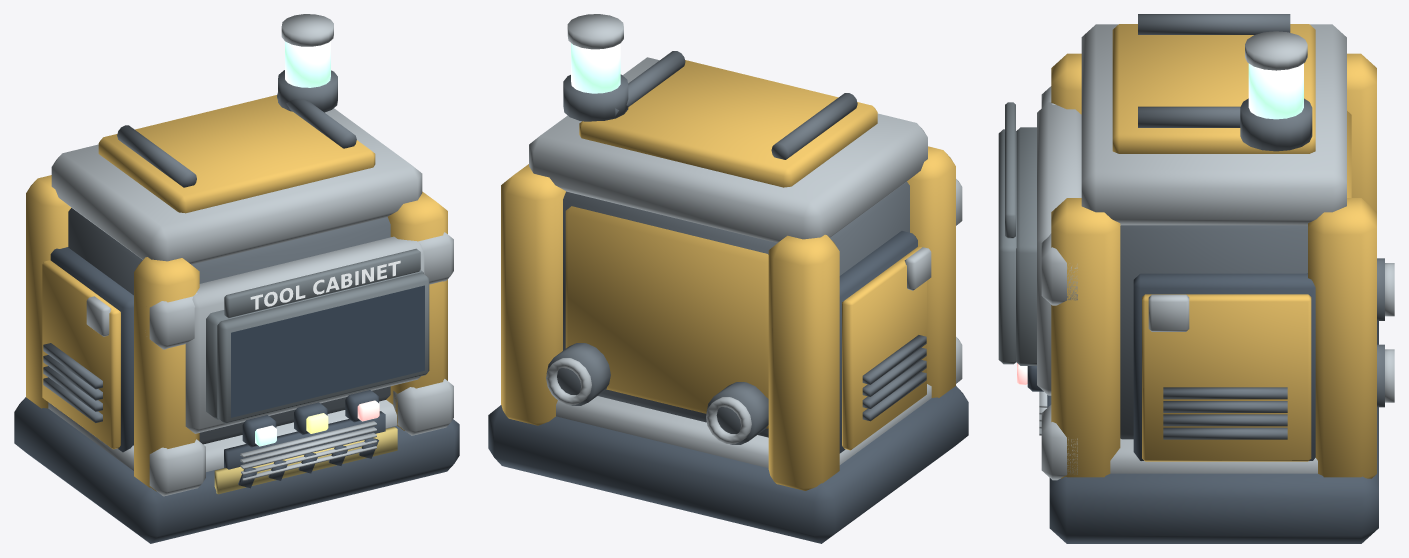
The model's file is tool_cabinet_standard.glb.
3 renders of one model, left to right at view 1: azimuth 30°, elevation 25°; view 2: azimuth 150°, elevation 25°; view 3: azimuth 270°, elevation 25°, orthographic. The views are drawn at different scales.
Visible parts, largest first — view 1: TopCap_steel_legacy_10, Base_black_legacy_0, Frame_orange_legacy_4, RoofPanel_orange_legacy_11, LiveViewSurface_glass, CornerGuard_steel_legacy_5, Housing_dark_legacy_2, ServiceDoor_orange_legacy_7, DisplayFrame_steel_legacy_13, LiveViewSurfaceFrame_frame, TypePlate_frame, SidePanel_black_legacy_6 (+13 smaller); view 2: Frame_orange_legacy_4, Armor_orange_legacy_3, Base_black_legacy_0, TopCap_steel_legacy_10, RoofPanel_orange_legacy_11, ServiceDoor_orange_legacy_7, Housing_dark_legacy_2, Skirt_steel_legacy_1, RearPort_dark_legacy_29, LiftRail_dark_legacy_12, SideVents_dark_legacy_8, SidePanel_black_legacy_6 (+6 smaller); view 3: Frame_orange_legacy_4, TopCap_steel_legacy_10, Base_black_legacy_0, ServiceDoor_orange_legacy_7, RoofPanel_orange_legacy_11, Housing_dark_legacy_2, DisplayFrame_steel_legacy_13, SideVents_dark_legacy_8, SidePanel_black_legacy_6, LiftRail_dark_legacy_12, ScreenMount_frame, CornerGuard_steel_legacy_5 (+9 smaller).
Part boxes in pixels (x1,y1,x2,y2): TopCap_steel_legacy_10: (51,108,422,264); Base_black_legacy_0: (14,397,459,543); Frame_orange_legacy_4: (26,175,447,491); RoofPanel_orange_legacy_11: (98,95,375,213); LiveViewSurface_glass: (231,285,424,417); CornerGuard_steel_legacy_5: (149,232,453,496); Housing_dark_legacy_2: (68,208,390,444); ServiceDoor_orange_legacy_7: (42,260,120,449); DisplayFrame_steel_legacy_13: (185,236,424,433); LiveViewSurfaceFrame_frame: (217,272,429,423); TypePlate_frame: (224,248,420,318); SidePanel_black_legacy_6: (50,247,133,452); Frame_orange_legacy_4: (501,146,955,490); Armor_orange_legacy_3: (565,206,768,428); Base_black_legacy_0: (488,386,968,543); TopCap_steel_legacy_10: (529,57,927,242); RoofPanel_orange_legacy_11: (579,60,877,187); ServiceDoor_orange_legacy_7: (842,246,926,450); Housing_dark_legacy_2: (563,181,909,437); Skirt_steel_legacy_1: (556,384,931,468); RearPort_dark_legacy_29: (546,343,768,444); LiftRail_dark_legacy_12: (615,51,857,159); SideVents_dark_legacy_8: (862,335,926,421); SidePanel_black_legacy_6: (839,231,917,453); Frame_orange_legacy_4: (1051,53,1376,478); TopCap_steel_legacy_10: (1081,24,1346,225); Base_black_legacy_0: (1049,321,1378,543); ServiceDoor_orange_legacy_7: (1142,294,1311,461); RoofPanel_orange_legacy_11: (1112,24,1315,153); Housing_dark_legacy_2: (1120,225,1307,439); DisplayFrame_steel_legacy_13: (1037,102,1081,395); SideVents_dark_legacy_8: (1163,387,1287,439); SidePanel_black_legacy_6: (1133,273,1315,460); LiftRail_dark_legacy_12: (1138,14,1290,127); ScreenMount_frame: (1016,127,1036,365); CornerGuard_steel_legacy_5: (1041,86,1077,480).
Bounding box in the file's own units: 1.43 × 1.65 × 1.27.
